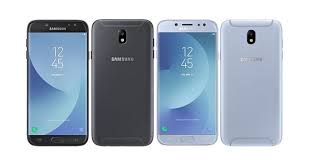samsung: (153, 16, 218, 149), (89, 16, 154, 149), (218, 16, 283, 148), (25, 17, 87, 145)
